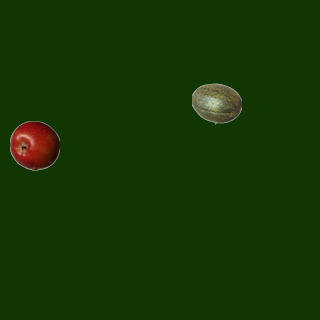Apple Braeburn: (9, 120, 59, 170)
Melon Piel de Sapo: (191, 78, 241, 128)
